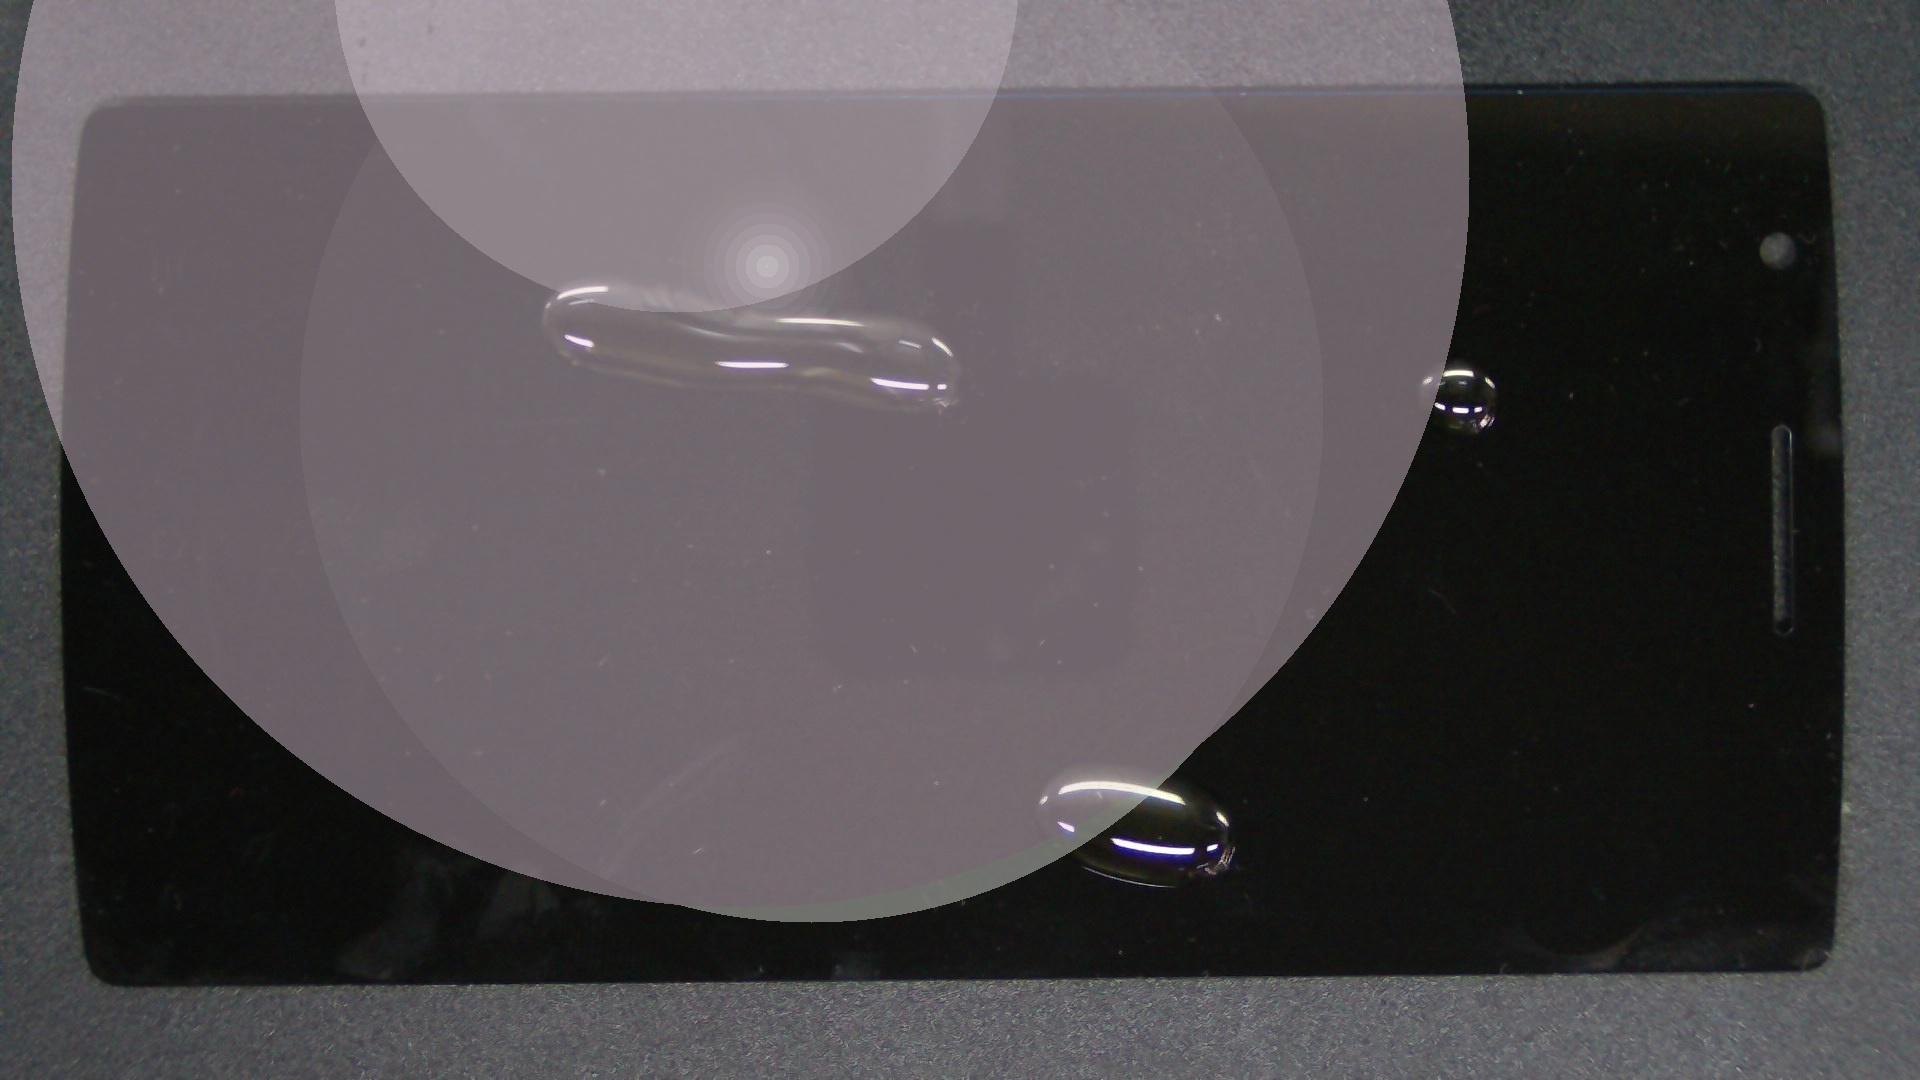oil: (541, 381, 1618, 1080), (728, 179, 1920, 539), (290, 140, 866, 421)
